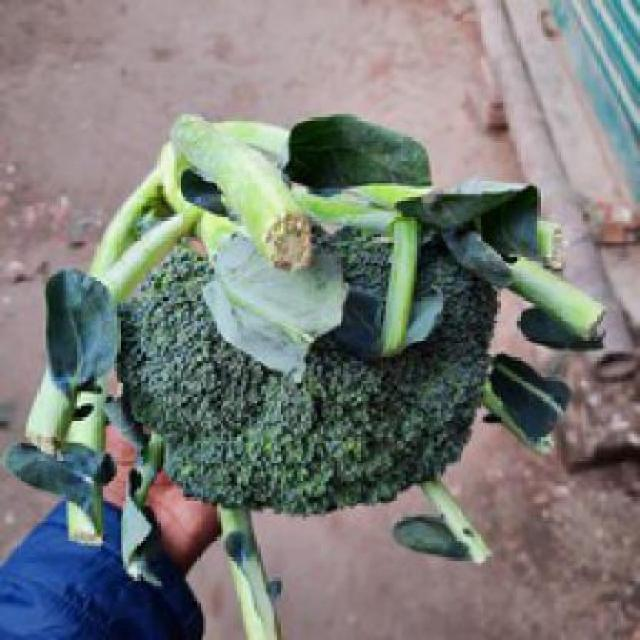broccoli: (68, 123, 554, 520)
